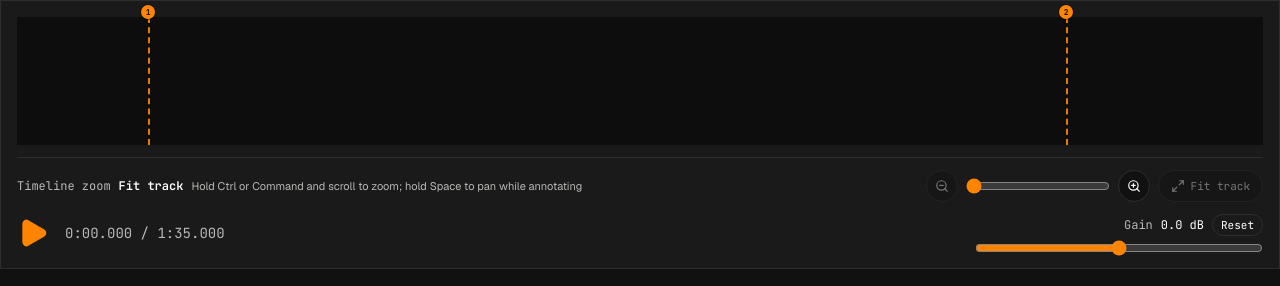
WaveformPlayer › keeps draft point numbers stable when earlier markers leave the viewport
Click the button named "Zoom in" at x=1134, y=186, box 1118,170 -> 1150,202
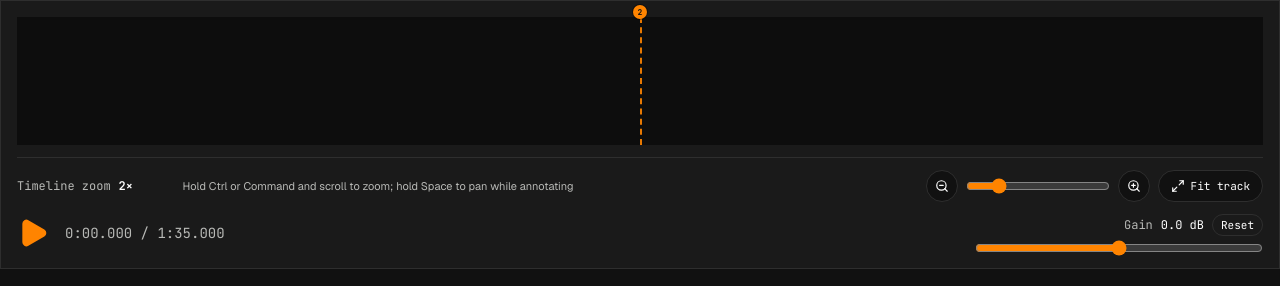
Result: the elements with class "draft-point-index" read "2", in this order at 633,5 -> 647,19
